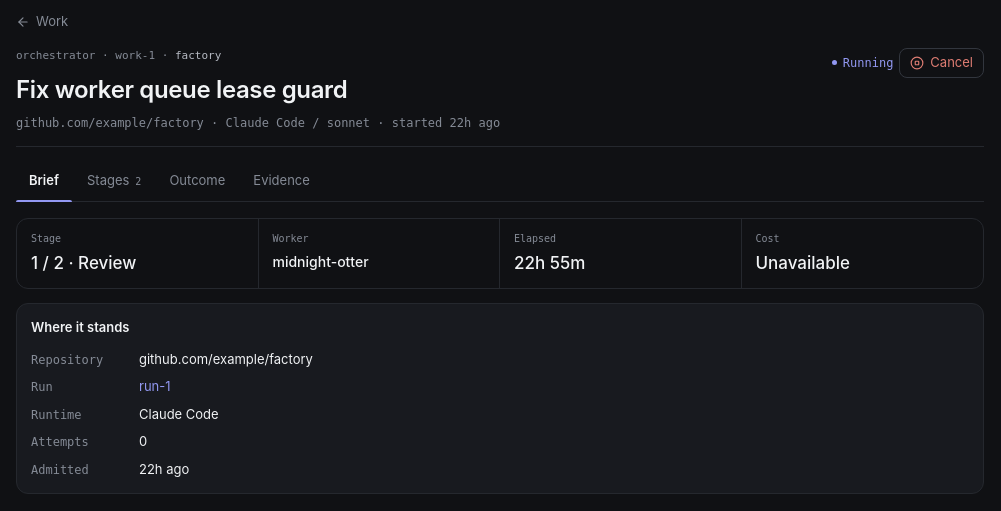
Test: Work detail › reports verification without inventing a test count
The image size is (1001, 511).
What coordinates should you click on to do the following:
click the tab "Outcome"
I would click on:
 (197, 181)
Its box is [156, 161, 238, 200].
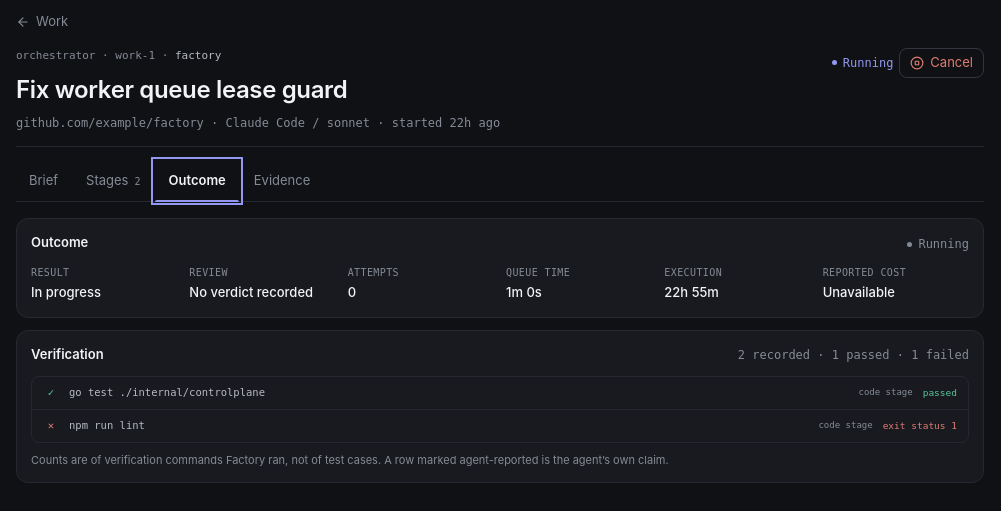
Expected: the text "2 recorded · 1 passed · 1 failed" is shown, [738, 346, 969, 364]
Expected: the text "go test ./internal/controlplane" is shown, [69, 386, 265, 398]
Expected: the text "exit status 1" is shown, [883, 418, 957, 433]
